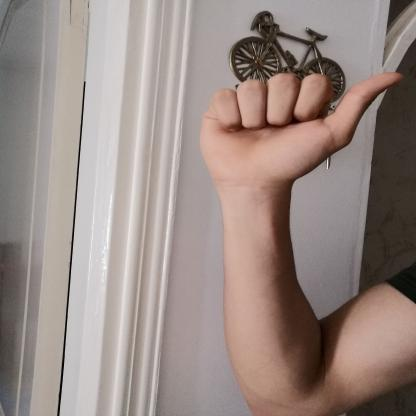DAD: (186, 60, 411, 195)
